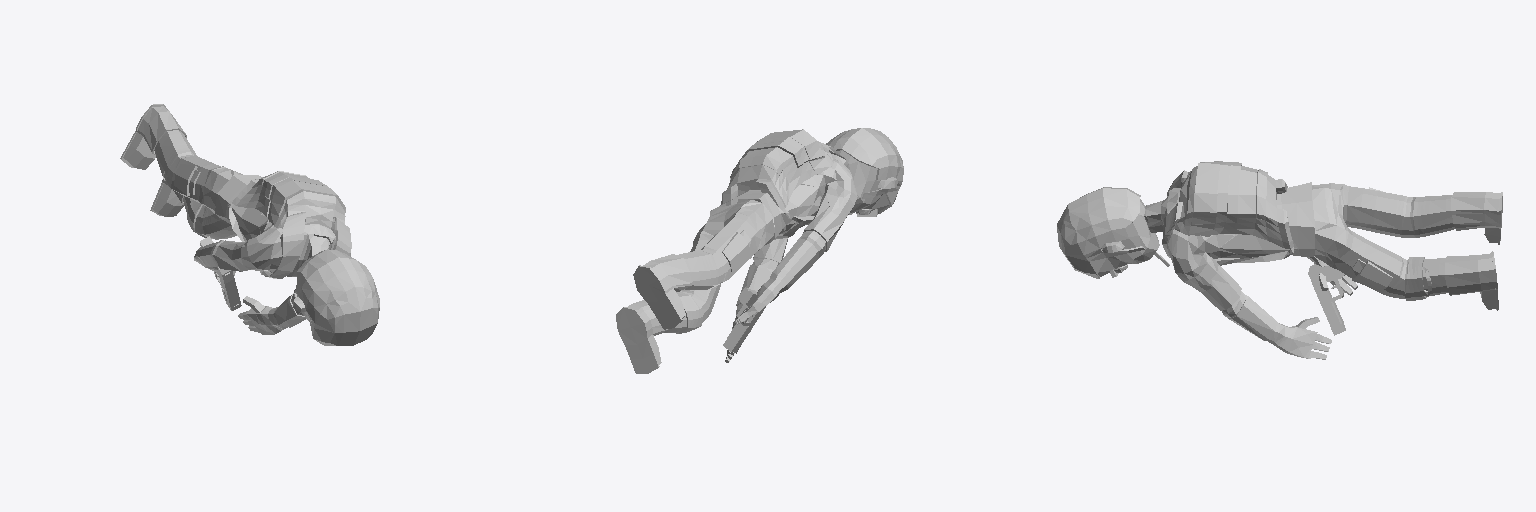
The model's file is frame_0008.obj.
3 views of the same model, side by side, from view 1: azimuth 30°, elevation 25°; view 2: azimuth 150°, elevation 25°; view 3: azimuth 270°, elevation 25° (orthographic).
Parts seen in each view (by area): view 1: Body, Gun; view 2: Body, Gun; view 3: Body, Gun.
Part boxes in pixels (bbox=[...]): Body: bbox=[120, 104, 379, 345]; Gun: bbox=[200, 236, 241, 310]; Body: bbox=[616, 128, 903, 373]; Gun: bbox=[723, 287, 765, 352]; Body: bbox=[1057, 161, 1502, 359]; Gun: bbox=[1308, 264, 1345, 335].
Bounding box in the file's own units: 1.09 × 1.95 × 4.14.